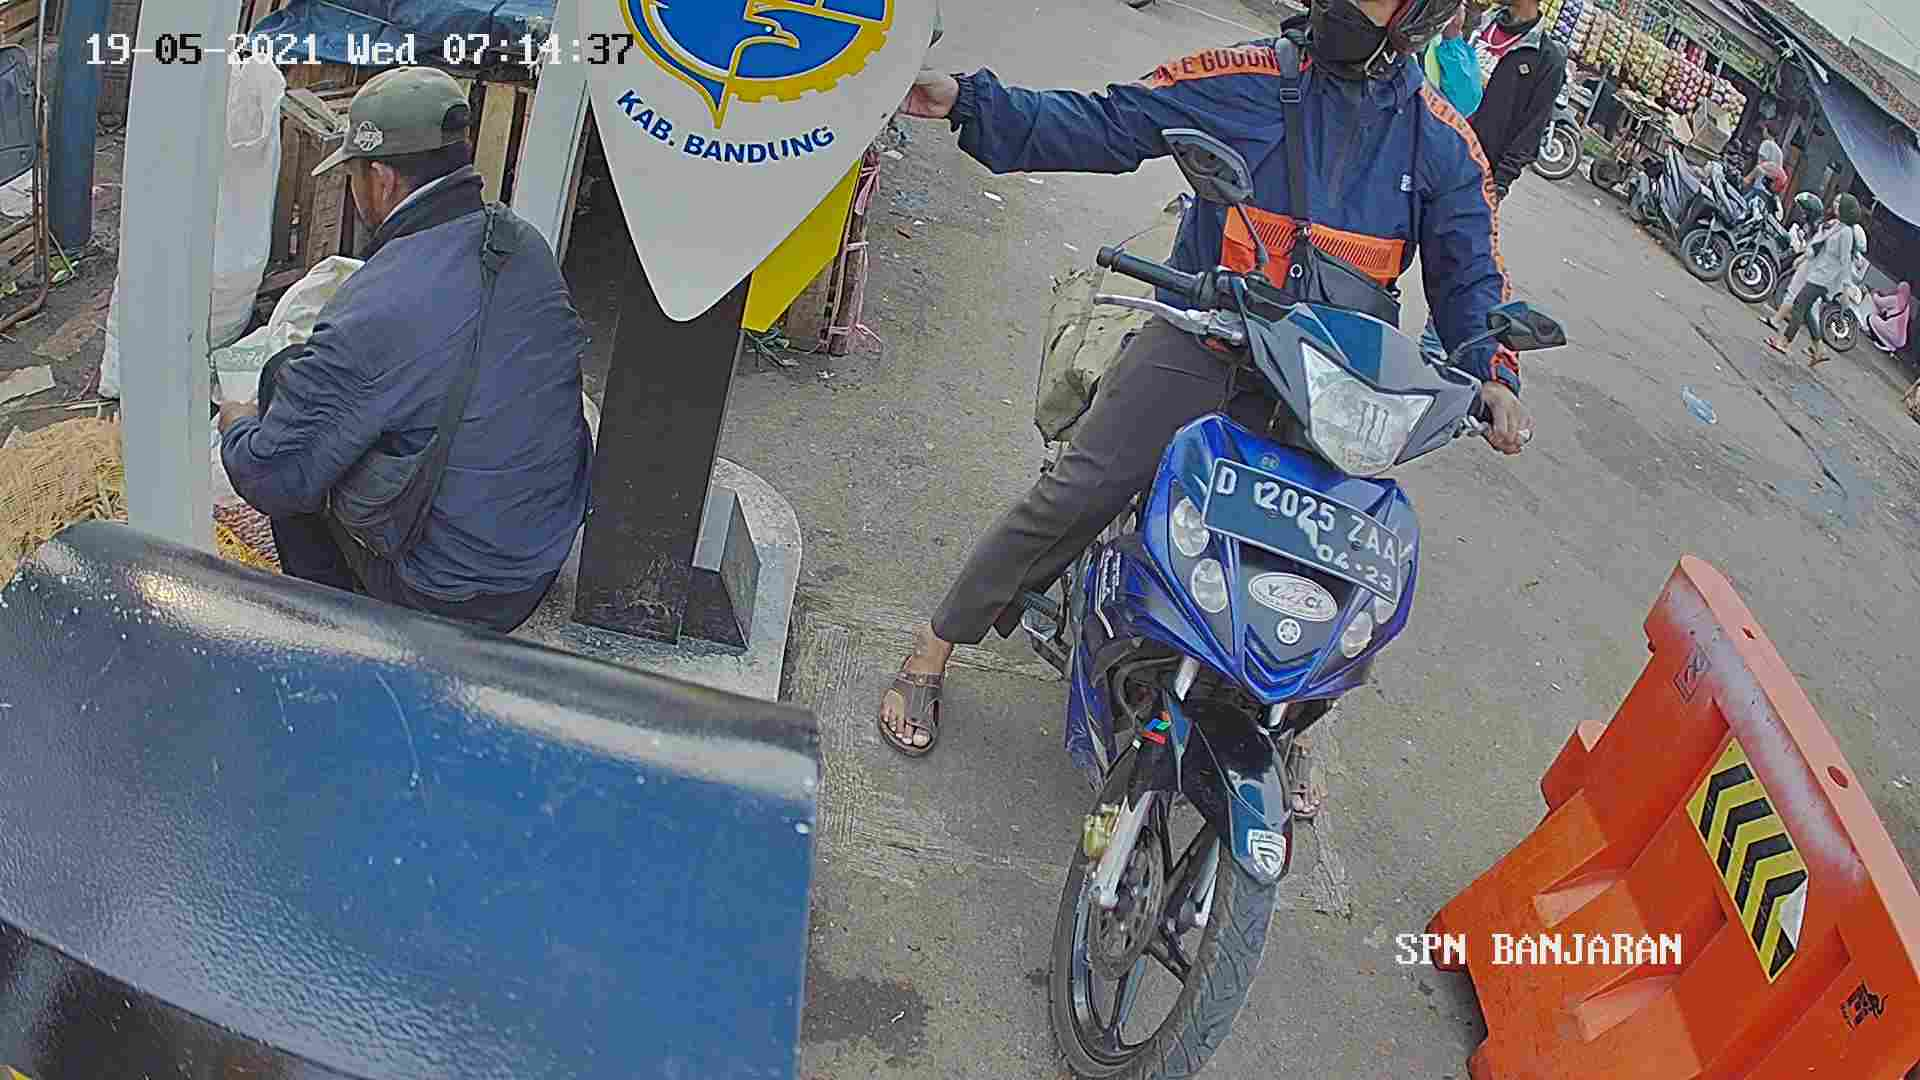motor: (1036, 243, 1458, 1080)
